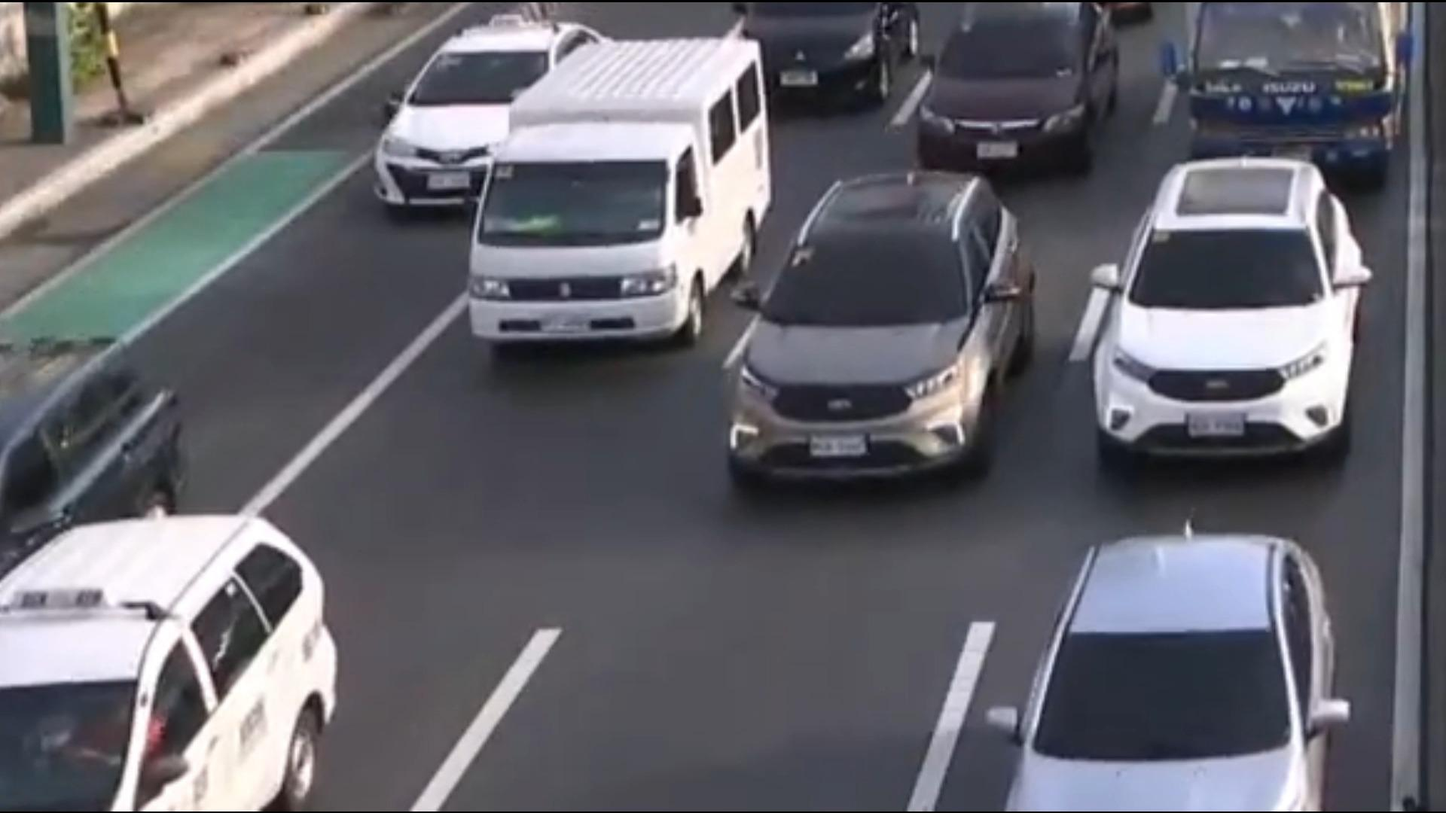Multicab: (471, 38, 770, 348)
SUV: (0, 512, 333, 813), (727, 171, 1026, 484), (1096, 167, 1367, 469), (0, 312, 203, 591)
Sedan: (1000, 525, 1348, 813), (375, 23, 597, 190), (911, 4, 1115, 179), (710, 0, 923, 119)
Truck: (1179, 0, 1412, 192)
